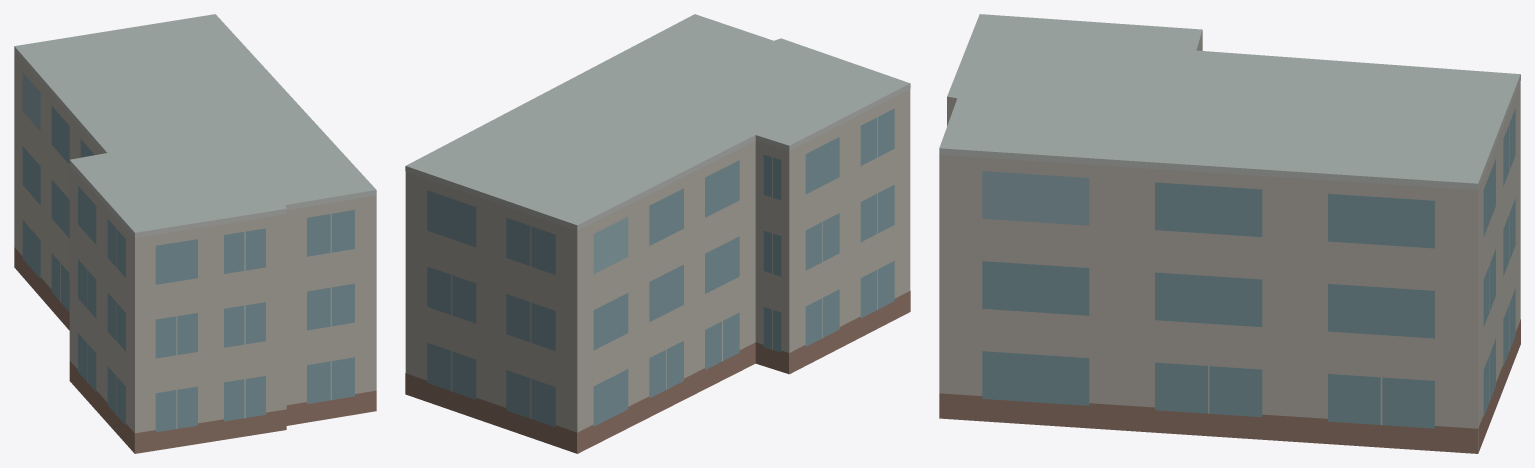
The model's file is survey-upis-32717610.glb.
3 renders of one model, left to right at view 1: azimuth 30°, elevation 25°; view 2: azimuth 150°, elevation 25°; view 3: azimuth 270°, elevation 25°, orthographic. The views are drawn at different scales.
Parts seen in each view (by area): view 1: survey-upis-32717610.tmp; view 2: survey-upis-32717610.tmp; view 3: survey-upis-32717610.tmp.
Part boxes in pixels (box(x1,y1,x2,y2)): survey-upis-32717610.tmp: box(14, 14, 376, 453); survey-upis-32717610.tmp: box(405, 14, 910, 453); survey-upis-32717610.tmp: box(939, 14, 1520, 453).
Bounding box in the file's own units: 13.75 × 10.2 × 19.91.
